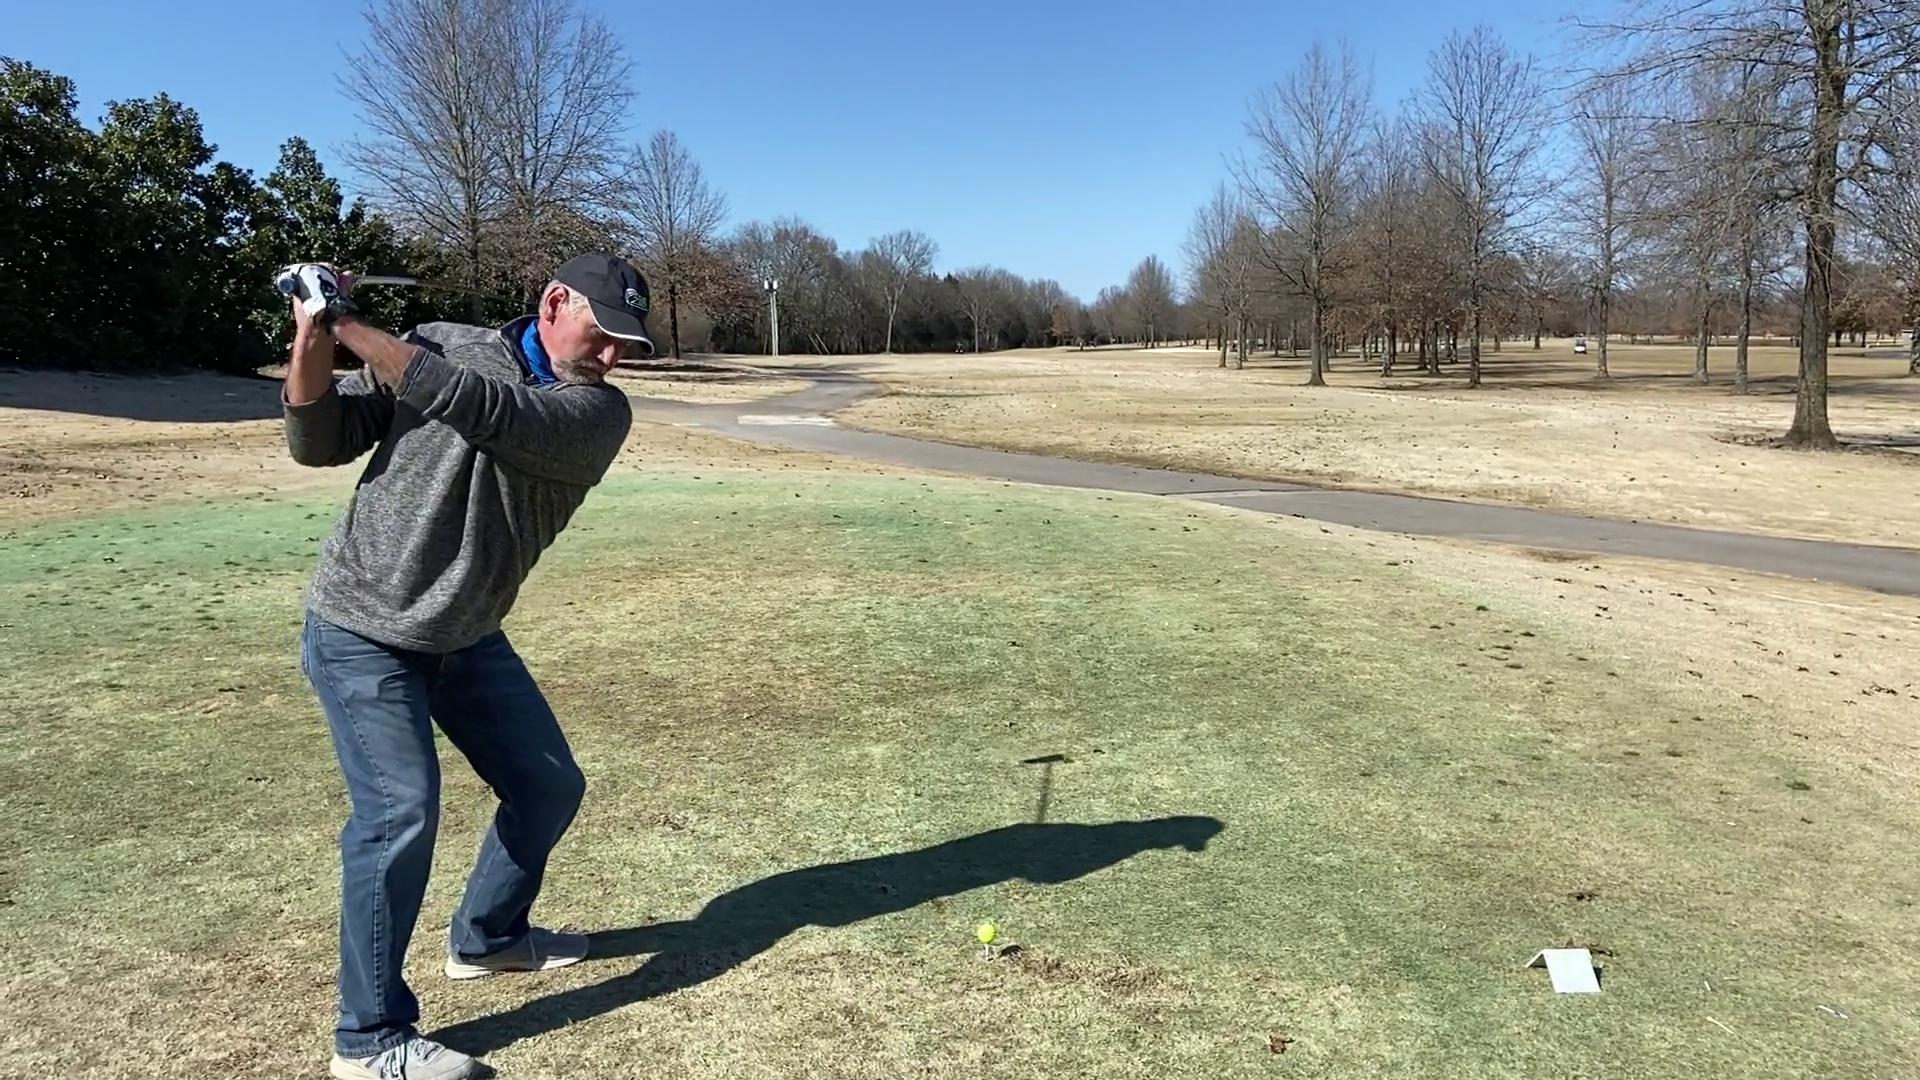GolfBall: (975, 922, 997, 944)
